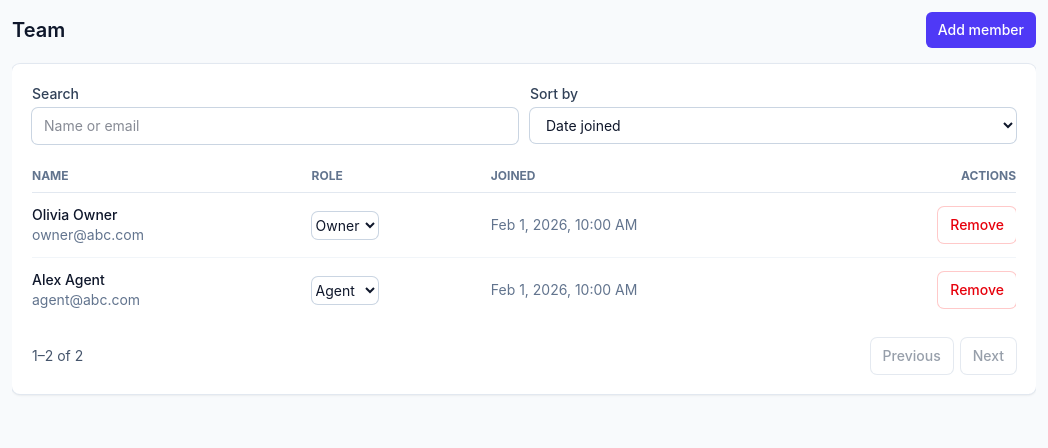
TeamView › shows backend rule violations, e.g. demoting the last owner
Check: the text "Alex Agent" is shown, box [32, 271, 105, 288]
Select "Viewer" in the dropdown named "Role for Alex Agent": [345, 290] box [312, 276, 378, 304]
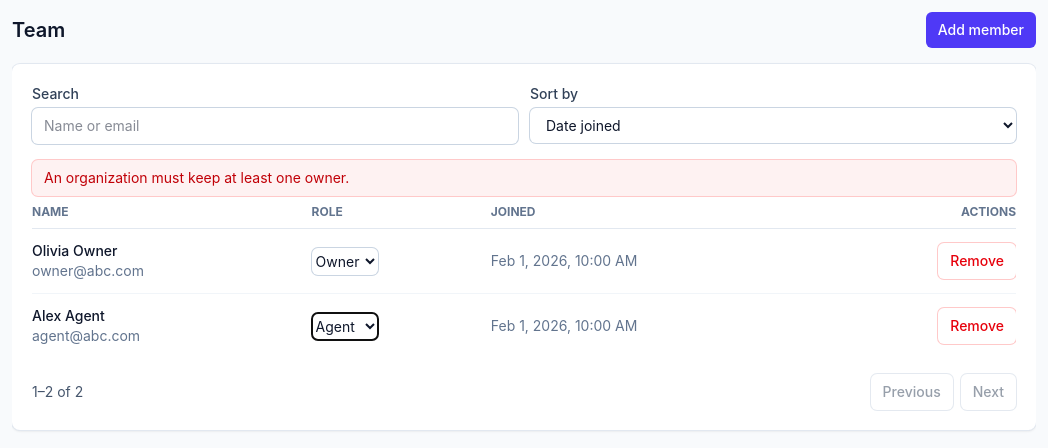
Check: the message shows "at least one owner", box [44, 169, 349, 186]
